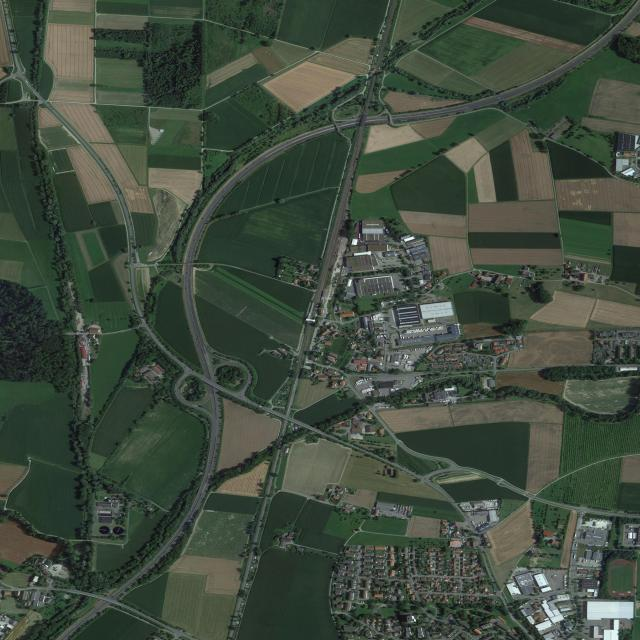storage-tank: (98, 525, 111, 535), (112, 526, 125, 535), (109, 494, 115, 498), (117, 513, 121, 517), (121, 513, 125, 517), (104, 497, 107, 500)
